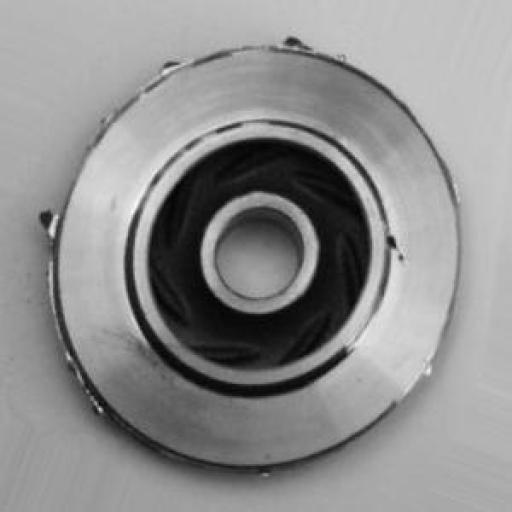defect: (24, 24, 478, 486)
